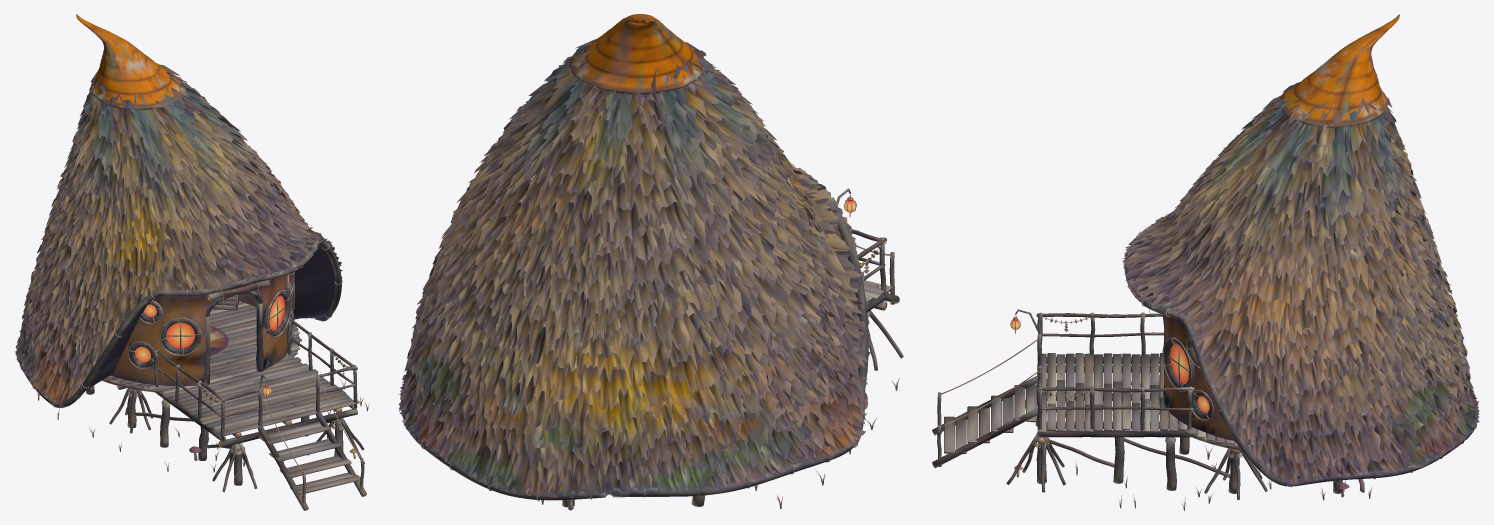
The model's file is kamp_cadir.glb.
The picture shows the model from 3 angles, left to right: view 1: azimuth 30°, elevation 25°; view 2: azimuth 150°, elevation 25°; view 3: azimuth 270°, elevation 25°; orthographic projection. The views are drawn at different scales.
Parts seen in each view (by area): view 1: kamp_cadir_LOD0; view 2: kamp_cadir_LOD0; view 3: kamp_cadir_LOD0.
Part boxes in pixels (x1,y1,x2,y2): kamp_cadir_LOD0: (15, 14, 369, 510); kamp_cadir_LOD0: (399, 14, 903, 510); kamp_cadir_LOD0: (932, 14, 1479, 510).
Size of what is drawn, in the model's own units: 9.76 by 11.54 by 14.
